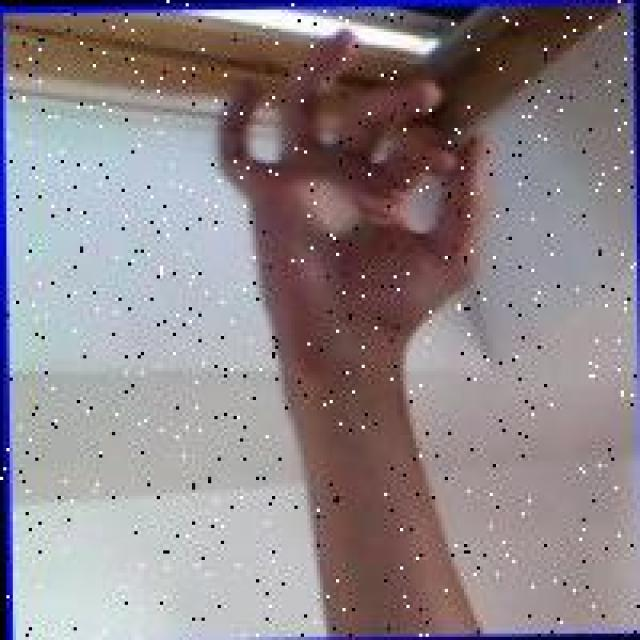F: (210, 21, 491, 347)
